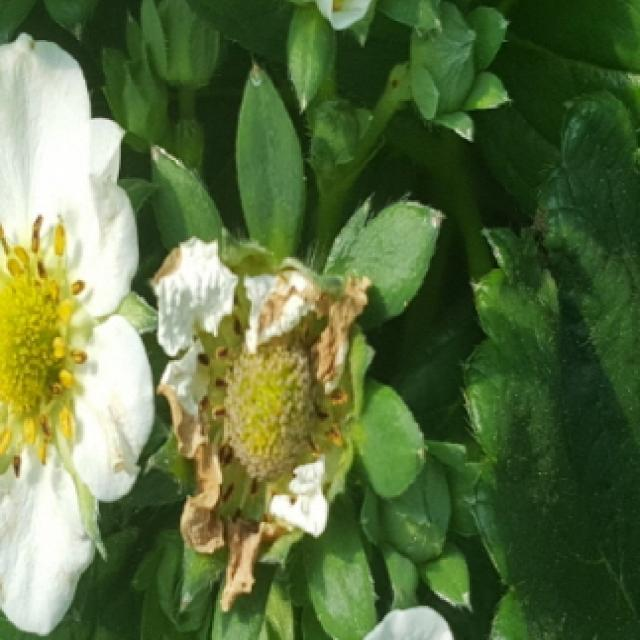Blossom Blight: (193, 287, 351, 531), (0, 205, 93, 481)
